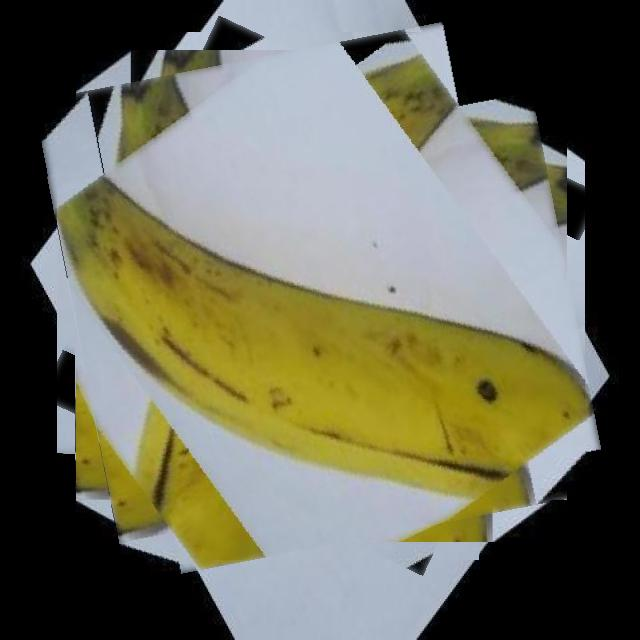Muito Madura: (54, 29, 588, 563)
